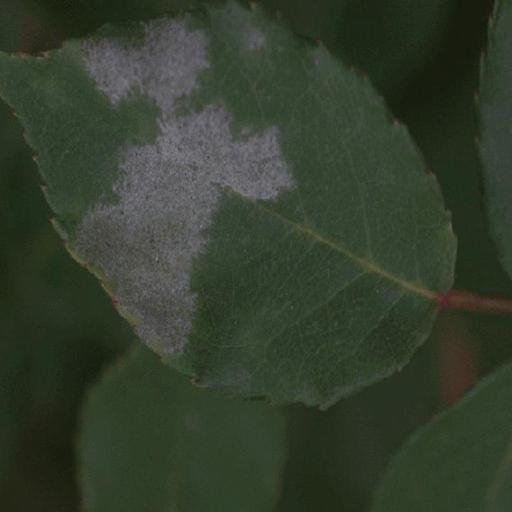powdery_mildew: (0, 2, 456, 408)
